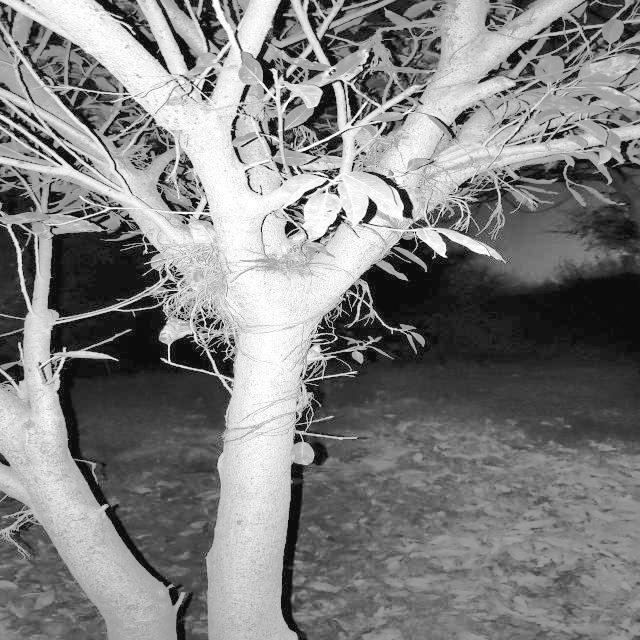Tree: (0, 0, 457, 640)
